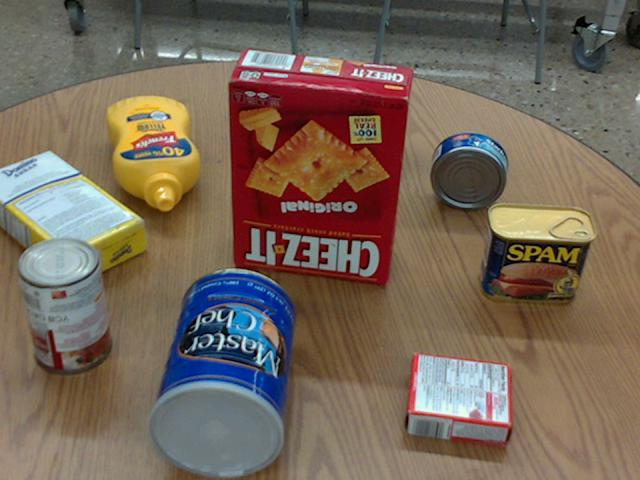cracker_box: (227, 50, 412, 282)
gelatin_box: (405, 352, 513, 445)
large_marker: (229, 103, 289, 155)
master_chef_can: (148, 268, 295, 479)
mug: (313, 64, 400, 153)
mustard_bottle: (106, 96, 199, 210)
potted_meat_can: (479, 203, 596, 303)
sugar_box: (0, 147, 145, 287)
tomato_soup_can: (17, 235, 111, 373)
tuna_fish_can: (429, 131, 507, 209)
